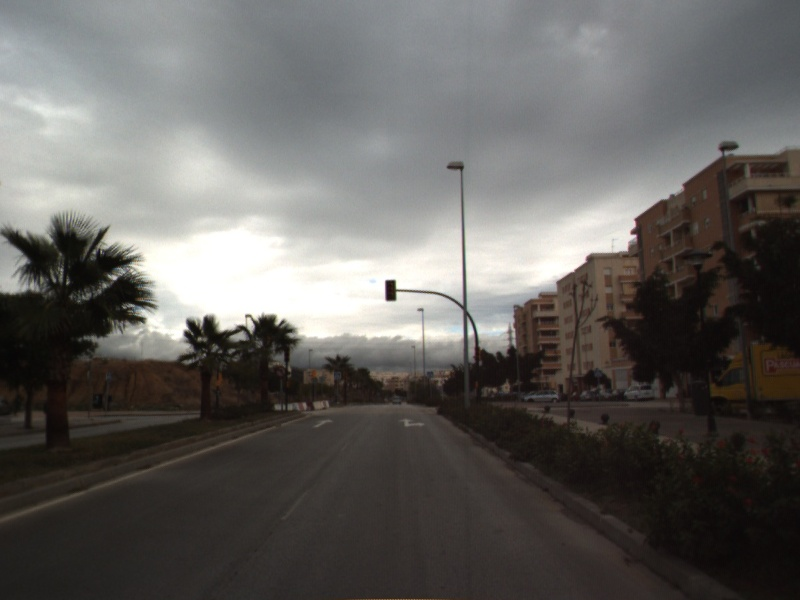STRAIGHT: (311, 417, 336, 429)
STRAIGHT_RIGHT: (397, 416, 426, 429)
